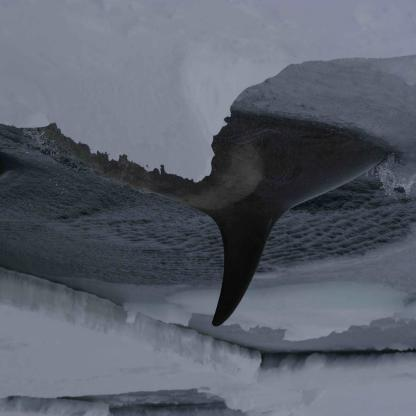dolphin-whale: (29, 84, 397, 331)
